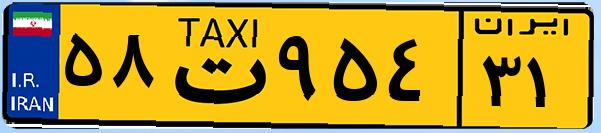1: (525, 38, 570, 115)
3: (475, 38, 525, 113)
4: (385, 28, 445, 110)
5: (330, 28, 385, 110), (57, 26, 110, 100)
8: (110, 28, 158, 98)
9: (270, 28, 330, 110)
ت: (158, 12, 270, 120)
